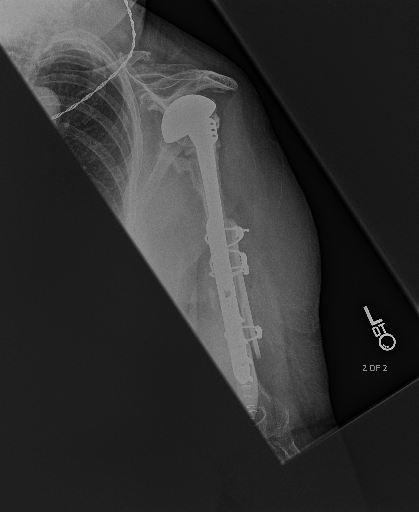implant: (201, 202, 267, 363)
